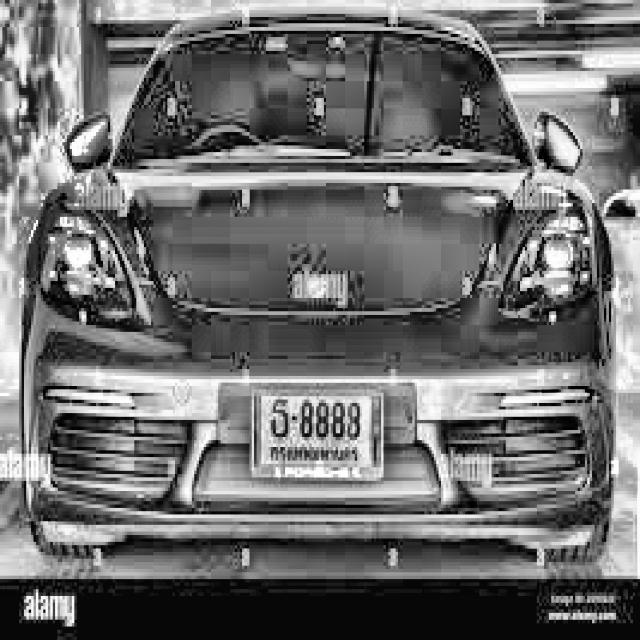license-plate: (250, 382, 384, 483)
